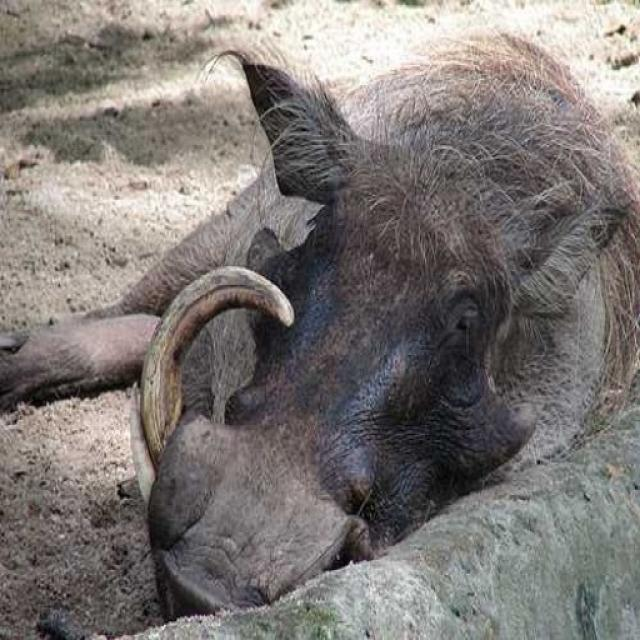pig: (49, 33, 640, 609)
